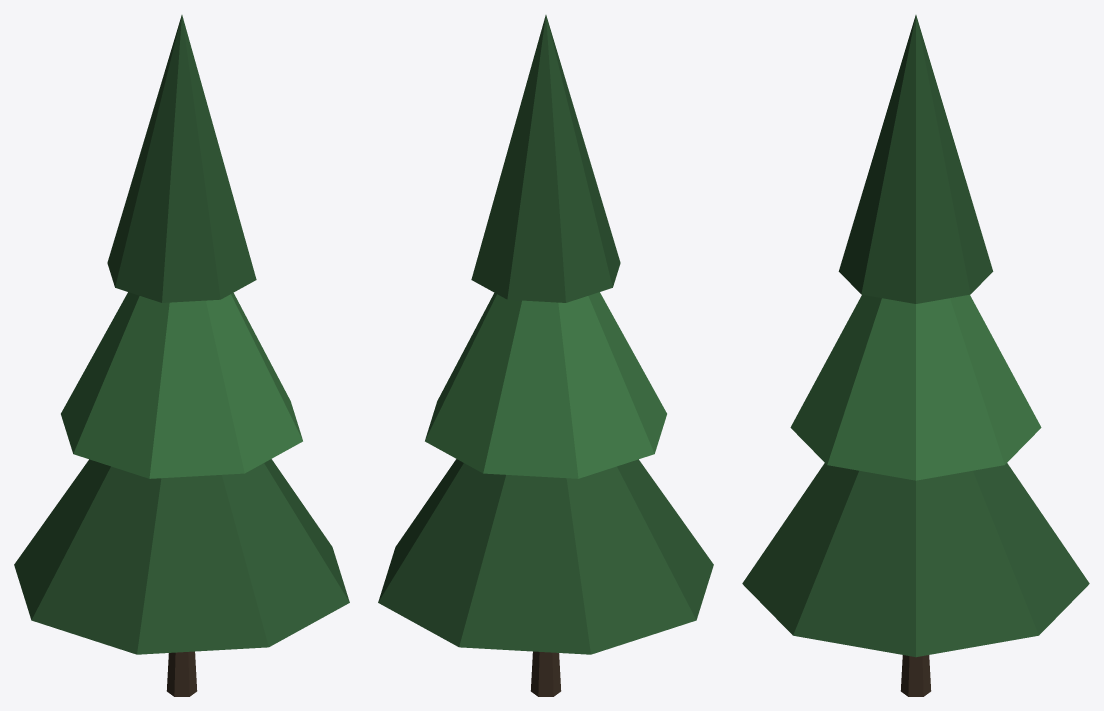
The model's file is conifer-v0-spring.glb.
3 views of the same model, side by side, from view 1: azimuth 30°, elevation 25°; view 2: azimuth 150°, elevation 25°; view 3: azimuth 270°, elevation 25° (orthographic).
Visible parts, largest first — view 1: conifer_v0; view 2: conifer_v0; view 3: conifer_v0.
Boxes of the visible parts, bbox=[...] form: conifer_v0: bbox=[14, 15, 349, 696]; conifer_v0: bbox=[378, 15, 713, 696]; conifer_v0: bbox=[742, 15, 1089, 696].
Size of what is drawn, in the model's own units: 5.94 by 12.76 by 5.94.
